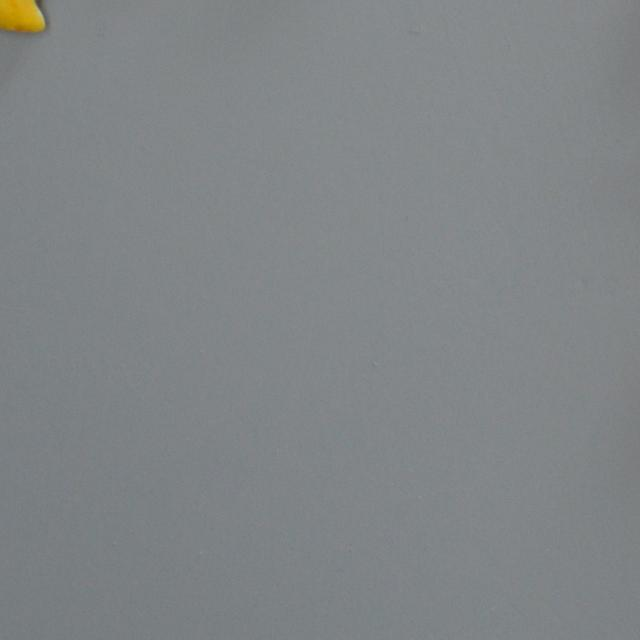no_canjicado: (0, 0, 74, 36)
